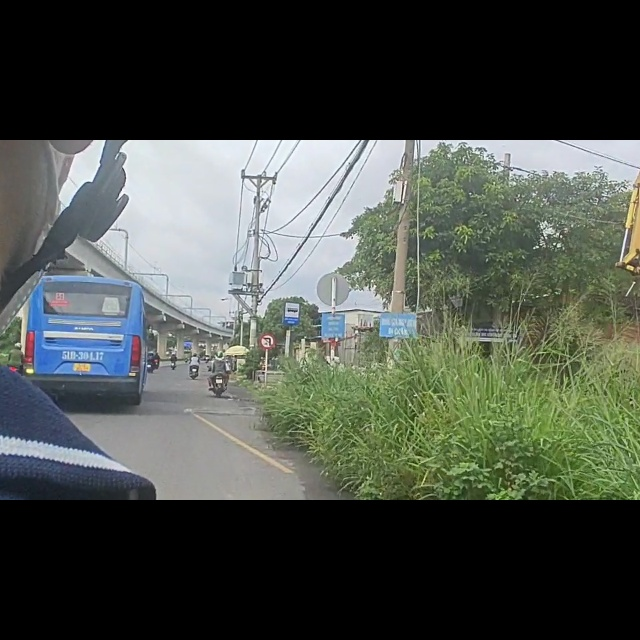bien_cam: (283, 287, 301, 329), (259, 344, 276, 372)
